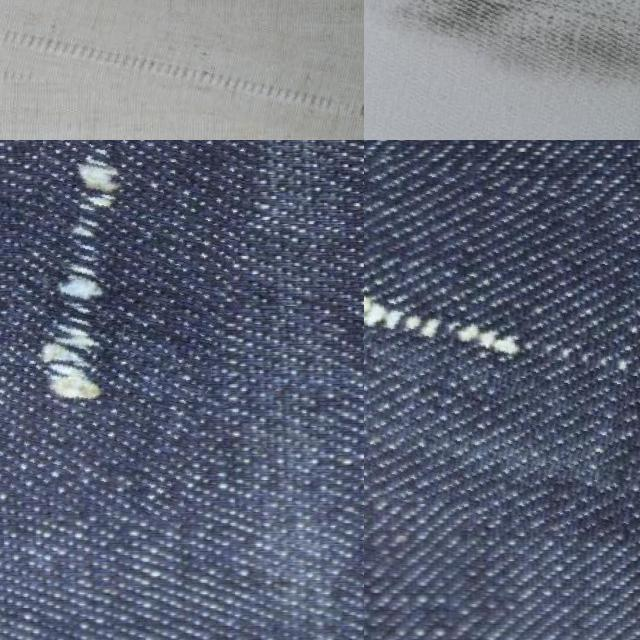Thread_other: (364, 0, 640, 140)
stains: (364, 154, 640, 536), (0, 140, 243, 518)
